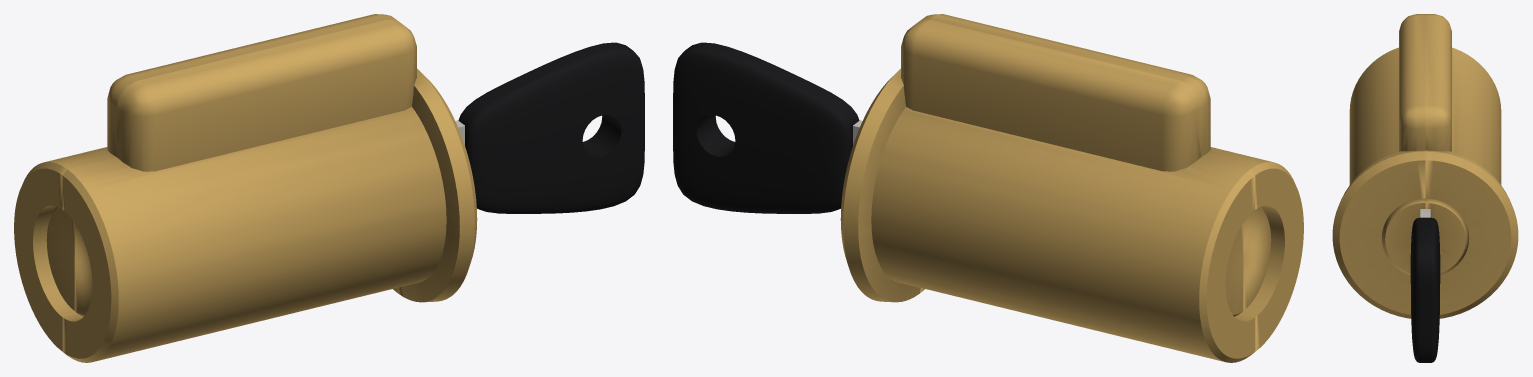
Rendered from lock-hi-v1.glb.
3 views of the same model, side by side, from view 1: azimuth 30°, elevation 25°; view 2: azimuth 150°, elevation 25°; view 3: azimuth 270°, elevation 25° (orthographic). The views are drawn at different scales.
Parts seen in each view (by area): view 1: housing_front, key_head, housing_back, plug_back, plug_front; view 2: housing_back, key_head, housing_front, plug_front, plug_back; view 3: housing_back, housing_front, key_head, plug_back, plug_front.
Boxes of the visible parts, x1=… form: housing_front: x1=62, y1=20, x2=477, y2=362; key_head: x1=458, y1=42, x2=644, y2=213; housing_back: x1=14, y1=14, x2=397, y2=351; plug_back: x1=46, y1=207, x2=74, y2=310; plug_front: x1=74, y1=224, x2=92, y2=316; housing_back: x1=840, y1=20, x2=1255, y2=362; key_head: x1=673, y1=42, x2=859, y2=213; housing_front: x1=920, y1=14, x2=1303, y2=351; plug_front: x1=1243, y1=207, x2=1271, y2=310; plug_back: x1=1225, y1=224, x2=1243, y2=316; housing_back: x1=1425, y1=14, x2=1518, y2=318; housing_front: x1=1332, y1=14, x2=1425, y2=318; key_head: x1=1410, y1=217, x2=1440, y2=362; plug_back: x1=1425, y1=198, x2=1468, y2=273; plug_front: x1=1382, y1=198, x2=1425, y2=273.
Size of the model in its own units: 0.0972 by 0.0449 by 0.0368.
